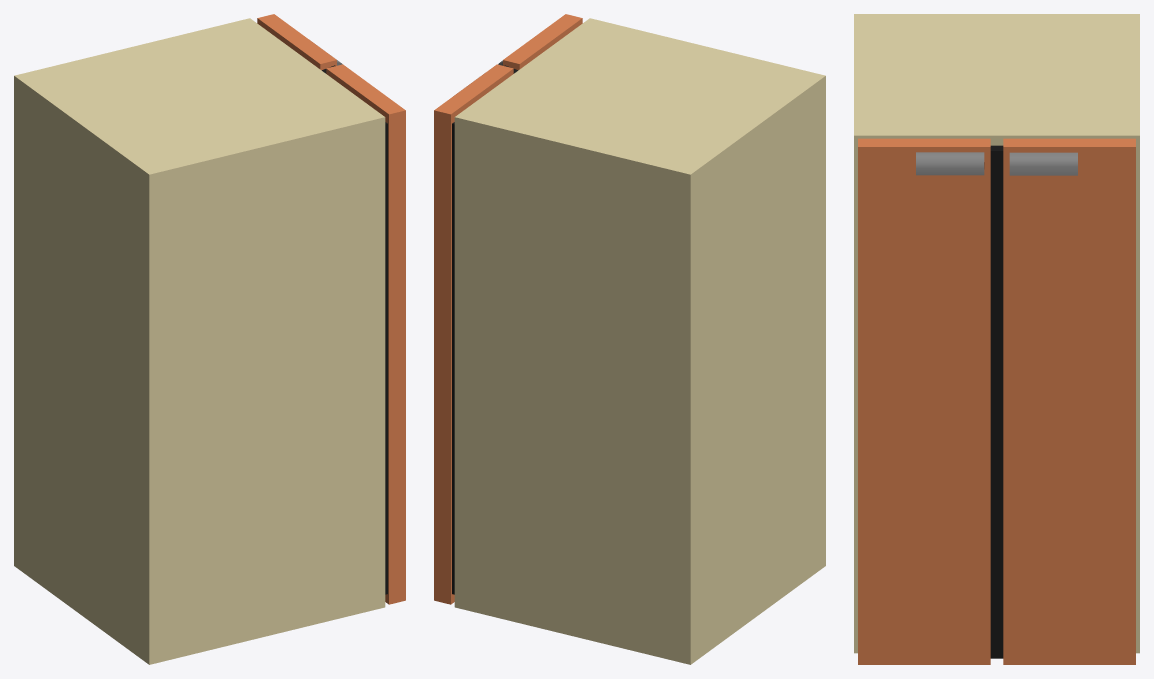
File: SM_Countertop_Big_01.fbx
3 views of the same model, side by side, from view 1: azimuth 30°, elevation 25°; view 2: azimuth 150°, elevation 25°; view 3: azimuth 270°, elevation 25° (orthographic). The views are drawn at different scales.
Parts seen in each view (by area): view 1: SM_Countertop_Big_01; view 2: SM_Countertop_Big_01; view 3: SM_Countertop_Big_01.
Boxes of the visible parts, box(x1,y1,x2,y2) form: SM_Countertop_Big_01: box(14, 14, 405, 664); SM_Countertop_Big_01: box(434, 14, 825, 664); SM_Countertop_Big_01: box(854, 14, 1139, 664).
Size of the model in its own units: 1.15 by 1 by 2.
